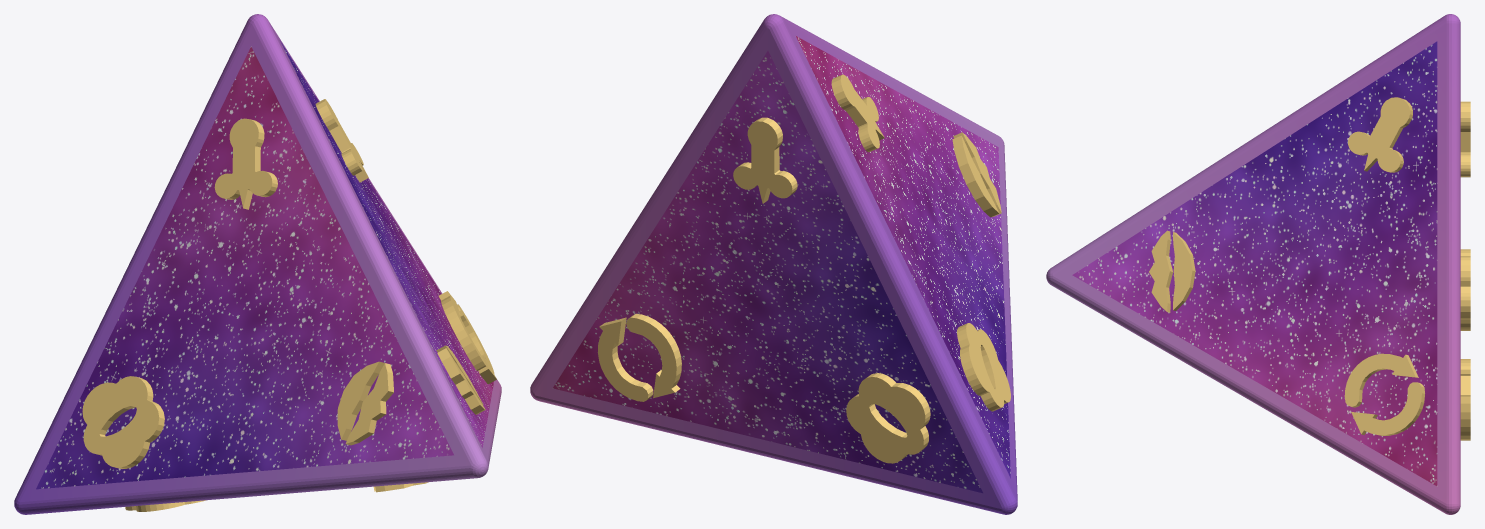
File: die.glb
The picture shows the model from 3 angles, left to right: view 1: azimuth 30°, elevation 25°; view 2: azimuth 150°, elevation 25°; view 3: azimuth 270°, elevation 25°; orthographic projection. The views are drawn at different scales.
Parts seen in each view (by area): view 1: glitter_face_2, die_body, raised_gold_symbols, glitter_face_3; view 2: glitter_face_4, die_body, glitter_face_2, raised_gold_symbols; view 3: glitter_face_3, die_body, raised_gold_symbols.
Part boxes in pixels (x1=…): glitter_face_2: x1=36, y1=46, x2=453, y2=489; die_body: x1=14, y1=14, x2=501, y2=514; raised_gold_symbols: x1=82, y1=99, x2=496, y2=511; glitter_face_3: x1=280, y1=41, x2=493, y2=447; glitter_face_4: x1=553, y1=51, x2=982, y2=493; die_body: x1=530, y1=14, x2=1017, y2=514; glitter_face_2: x1=796, y1=36, x2=1010, y2=478; raised_gold_symbols: x1=597, y1=74, x2=1010, y2=463; glitter_face_3: x1=1072, y1=41, x2=1437, y2=486; die_body: x1=1046, y1=14, x2=1460, y2=514; raised_gold_symbols: x1=1149, y1=97, x2=1470, y2=440.
Size of the model in its own units: 29.19 by 25.6 by 24.63.
Materials: 5 (4 with a texture image).
